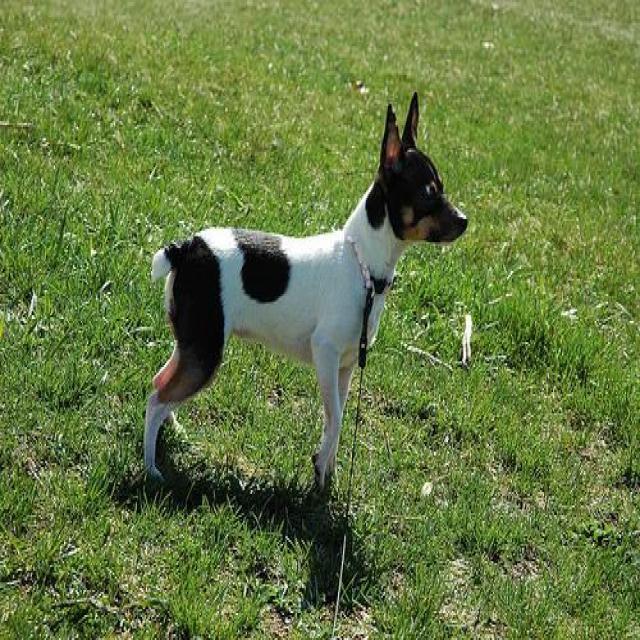toy_terrier: (144, 92, 470, 504)
